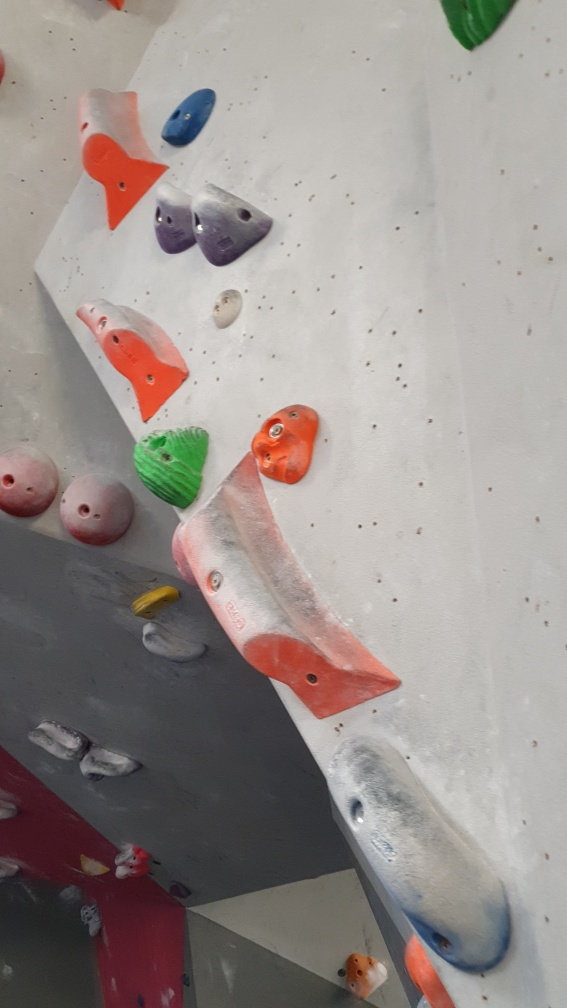Crimp: (163, 81, 219, 153)
Jug: (127, 420, 212, 511), (188, 181, 276, 264), (149, 179, 202, 256)
Pinch: (173, 450, 404, 721), (320, 736, 512, 970), (71, 80, 173, 230), (75, 295, 190, 424)
Sloper: (54, 470, 135, 551), (1, 443, 66, 521)
